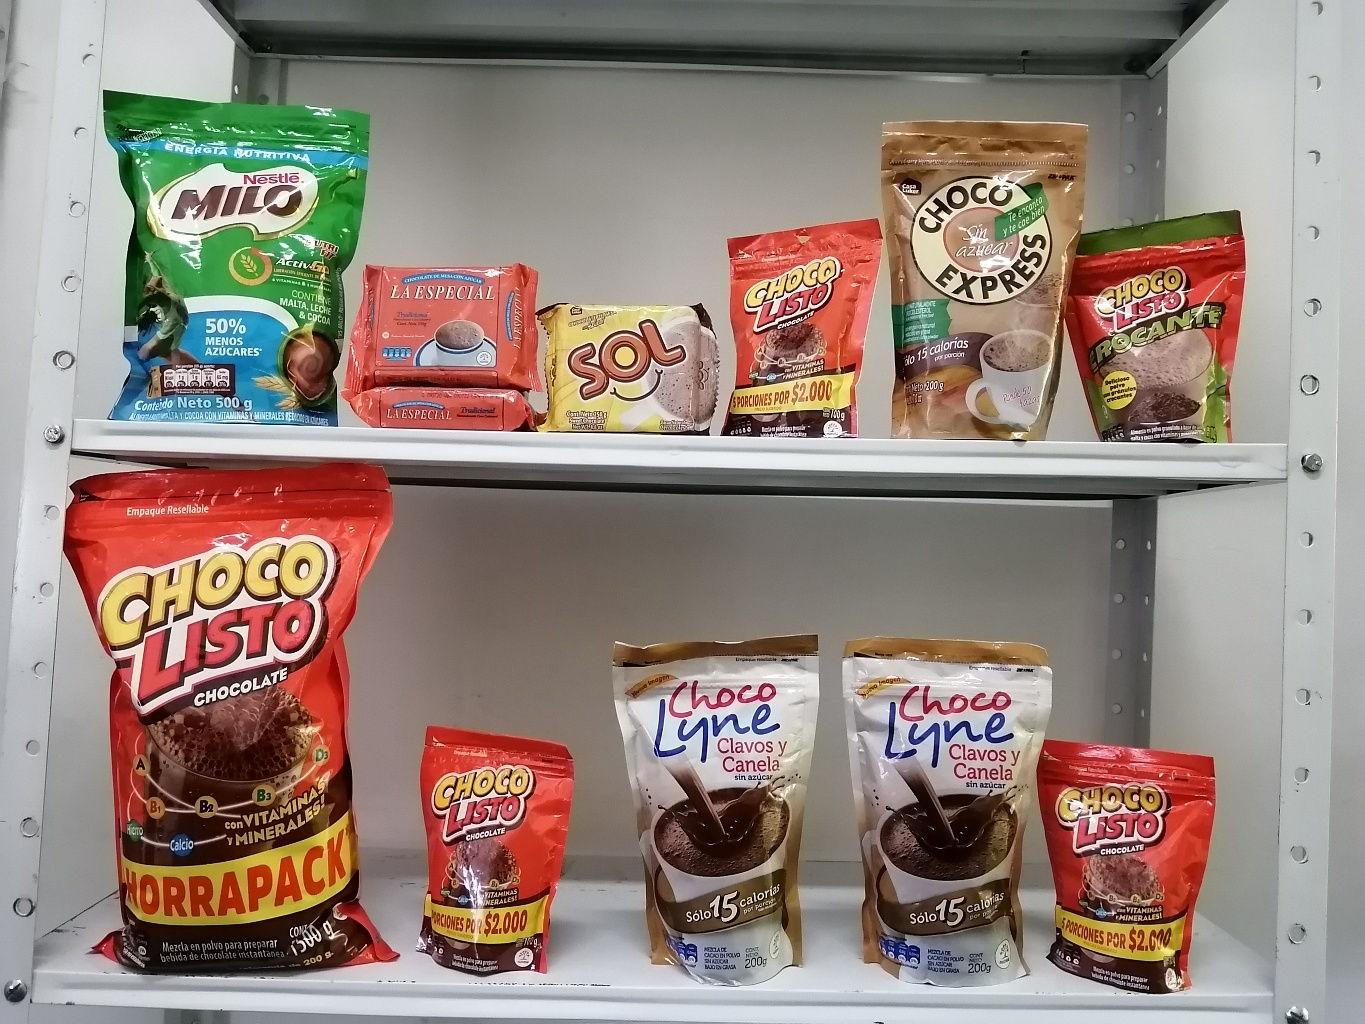COL0170102DYP10000: (1050, 204, 1249, 442)
COL0170103DYP1,500: (68, 477, 400, 975)
COL0170103DYP10000: (721, 213, 883, 432)
COL0170205DYP50000: (99, 86, 369, 429)
